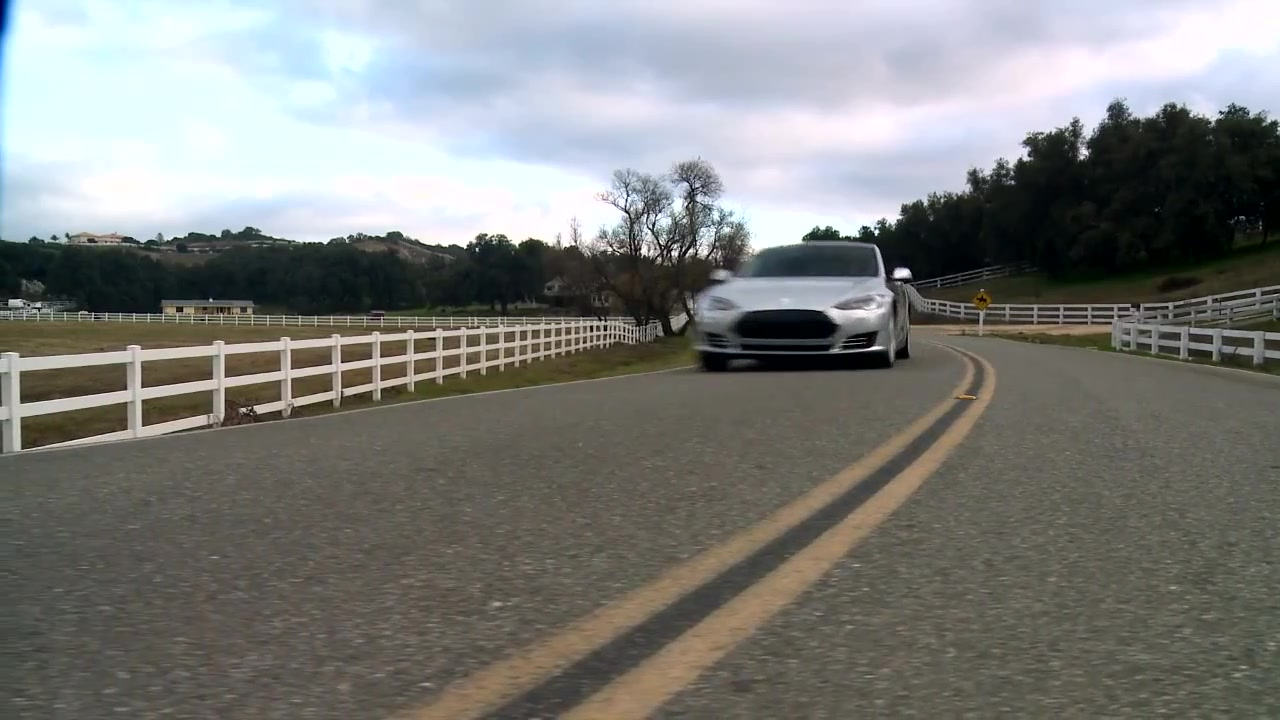car: (687, 237, 921, 367)
